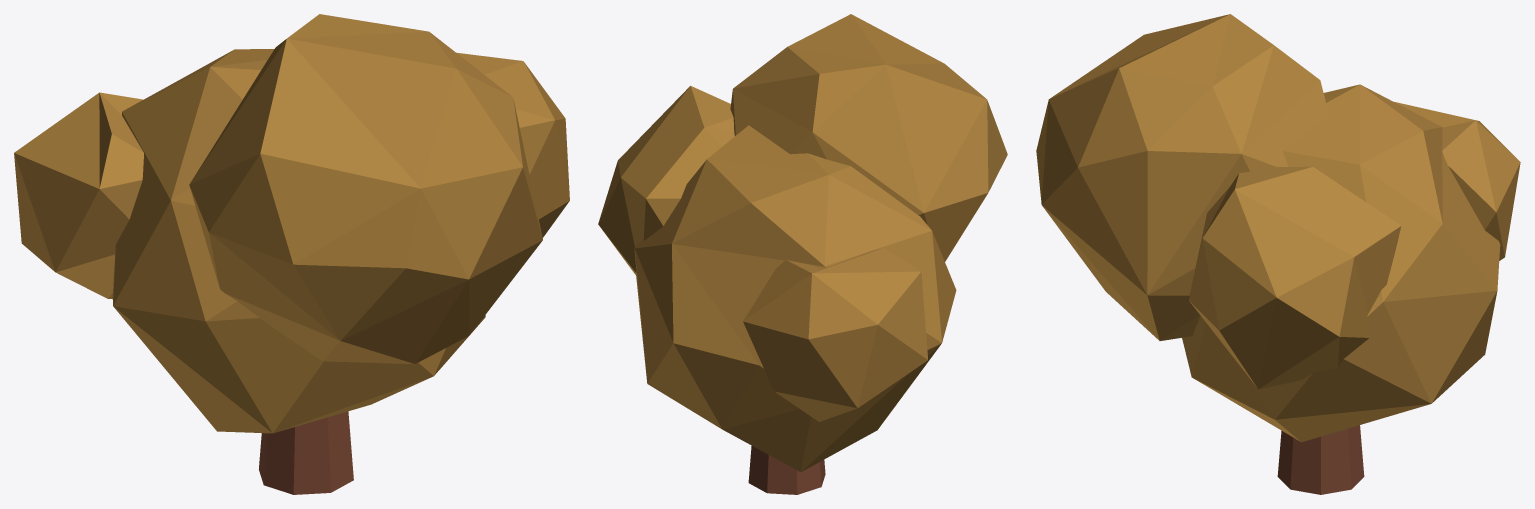
File: bush_5_autumn_vc.fbx
3 renders of one model, left to right at view 1: azimuth 30°, elevation 25°; view 2: azimuth 150°, elevation 25°; view 3: azimuth 270°, elevation 25°, orthographic. The views are drawn at different scales.
Parts seen in each view (by area): view 1: bush_5_autumn_vc; view 2: bush_5_autumn_vc; view 3: bush_5_autumn_vc.
Part boxes in pixels (box(x1,y1,x2,y2)): bush_5_autumn_vc: box(14, 14, 569, 494); bush_5_autumn_vc: box(598, 14, 1007, 494); bush_5_autumn_vc: box(1036, 14, 1520, 494).
Bounding box in the file's own units: 81.48 × 85.61 × 86.93.
